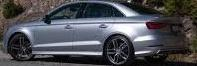Cars: (3, 1, 185, 65)
